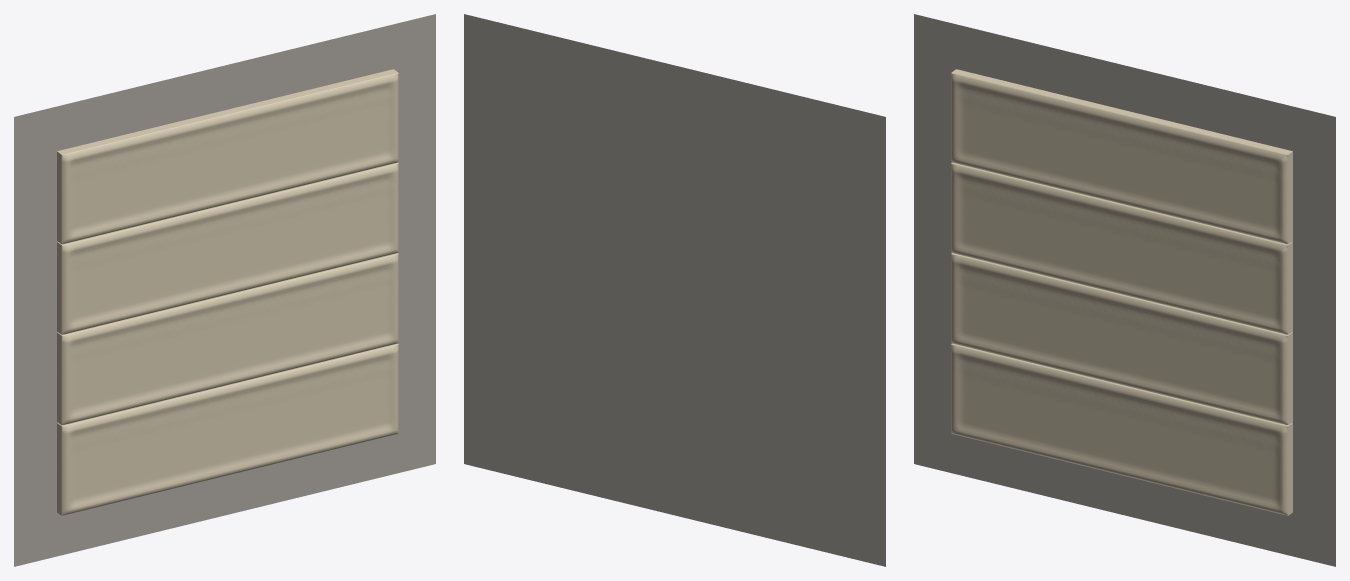
Rendered from terilgan.glb.
3 renders of one model, left to right at view 1: azimuth 30°, elevation 25°; view 2: azimuth 150°, elevation 25°; view 3: azimuth 330°, elevation 25°, orthographic.
Parts seen in each view (by area): view 1: Plane, t3_0, t1_0, t0_0, t2_0; view 2: Plane; view 3: Plane, t3_0, t1_0, t0_0, t2_0.
Part boxes in pixels (x1,y1,x2,y2): Plane: (14,14,435,566); t3_0: (57,69,398,244); t1_0: (57,253,398,425); t0_0: (57,343,398,515); t2_0: (57,162,398,334); Plane: (464,14,885,566); Plane: (914,14,1335,566); t3_0: (951,69,1292,244); t1_0: (951,253,1292,425); t0_0: (951,343,1292,515); t2_0: (951,162,1292,334).
Bounding box in the file's own units: 1.5 × 1.53 × 0.0418.
